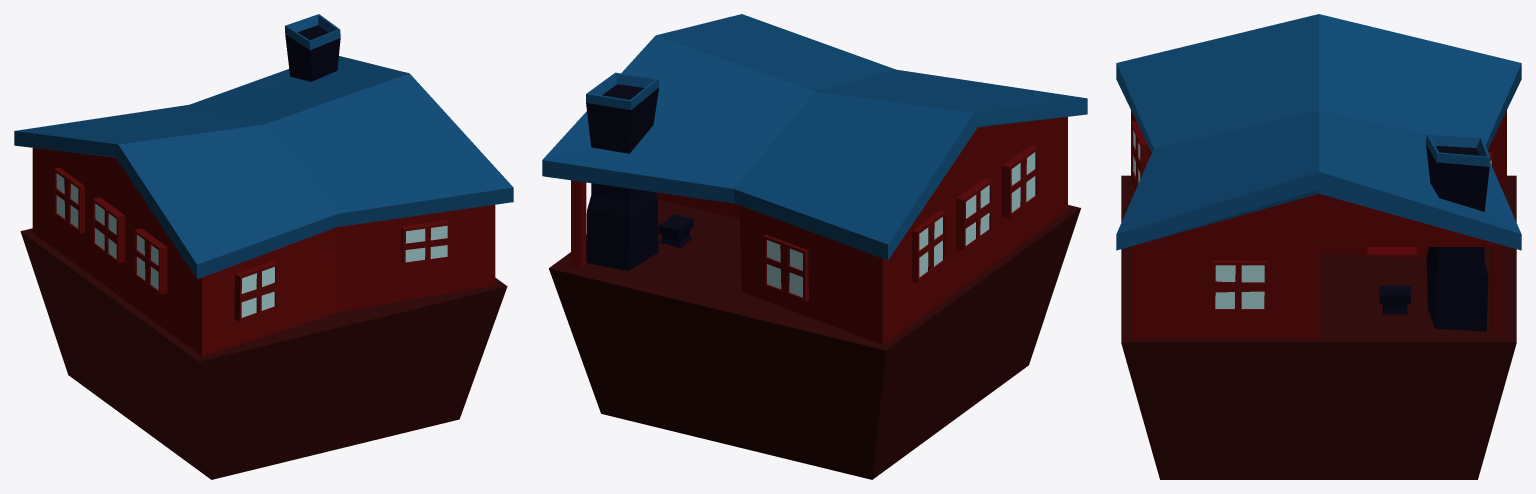
File: blacksmith.glb
The picture shows the model from 3 angles, left to right: view 1: azimuth 30°, elevation 25°; view 2: azimuth 150°, elevation 25°; view 3: azimuth 270°, elevation 25°; orthographic projection. The views are drawn at different scales.
Parts seen in each view (by area): view 1: Cube; view 2: Cube; view 3: Cube.
Part boxes in pixels (x1,y1,x2,y2): Cube: (14, 14, 513, 479); Cube: (542, 14, 1087, 479); Cube: (1116, 14, 1521, 479).
Bounding box in the file's own units: 14.34 × 12.88 × 14.34.
1 material, 1 textured.
